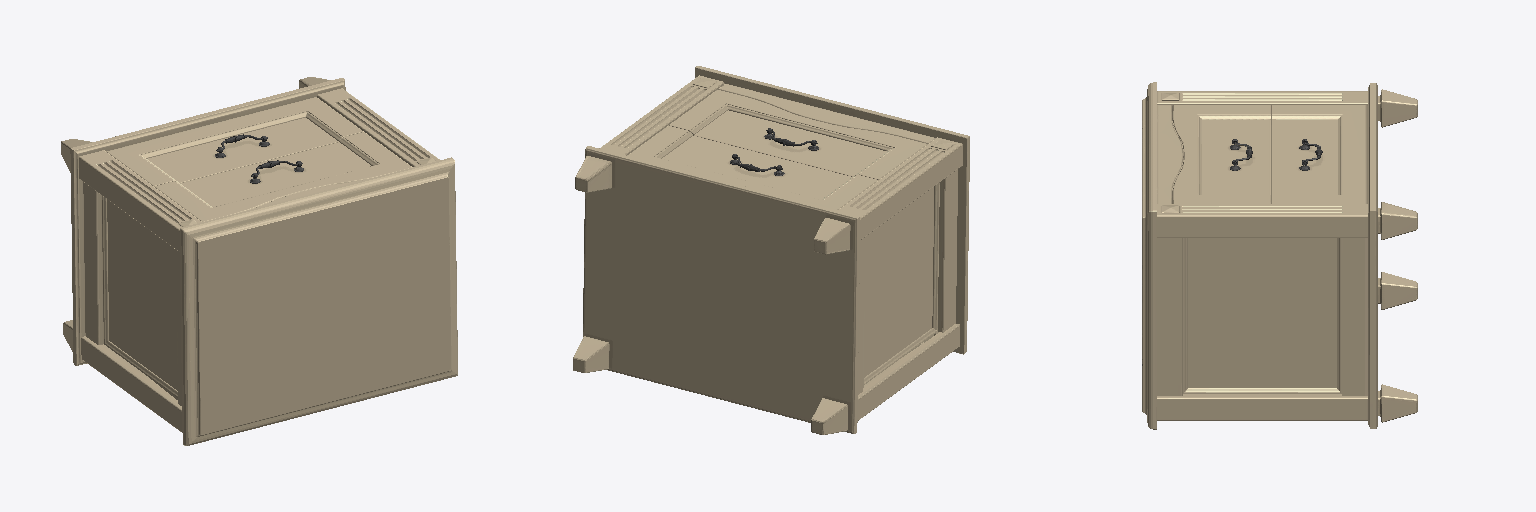
3 renders of one model, left to right at view 1: azimuth 30°, elevation 25°; view 2: azimuth 150°, elevation 25°; view 3: azimuth 270°, elevation 25°, orthographic.
Bounding box in the file's own units: 0.6372 × 0.4895 × 0.55.
1 materials, 1 textured.